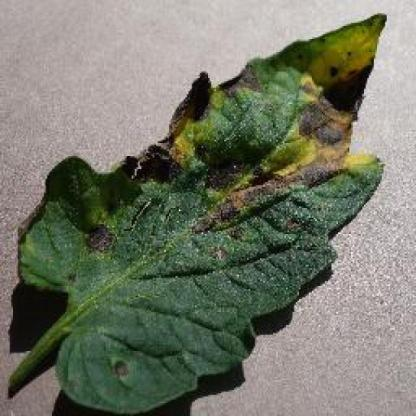Tomato_Blight: (19, 14, 394, 411)
